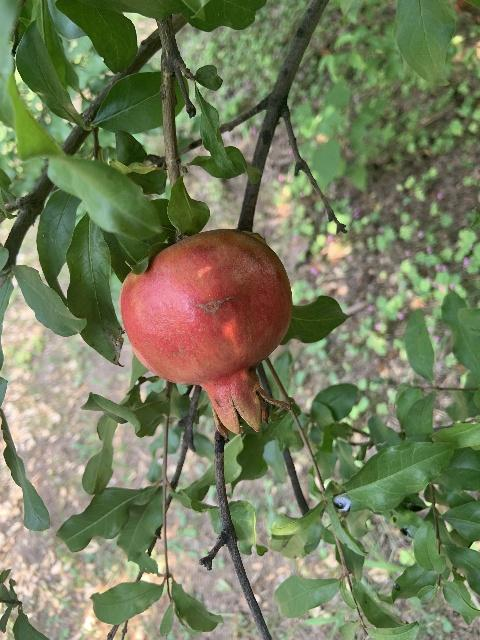ripe: (119, 228, 292, 437)
